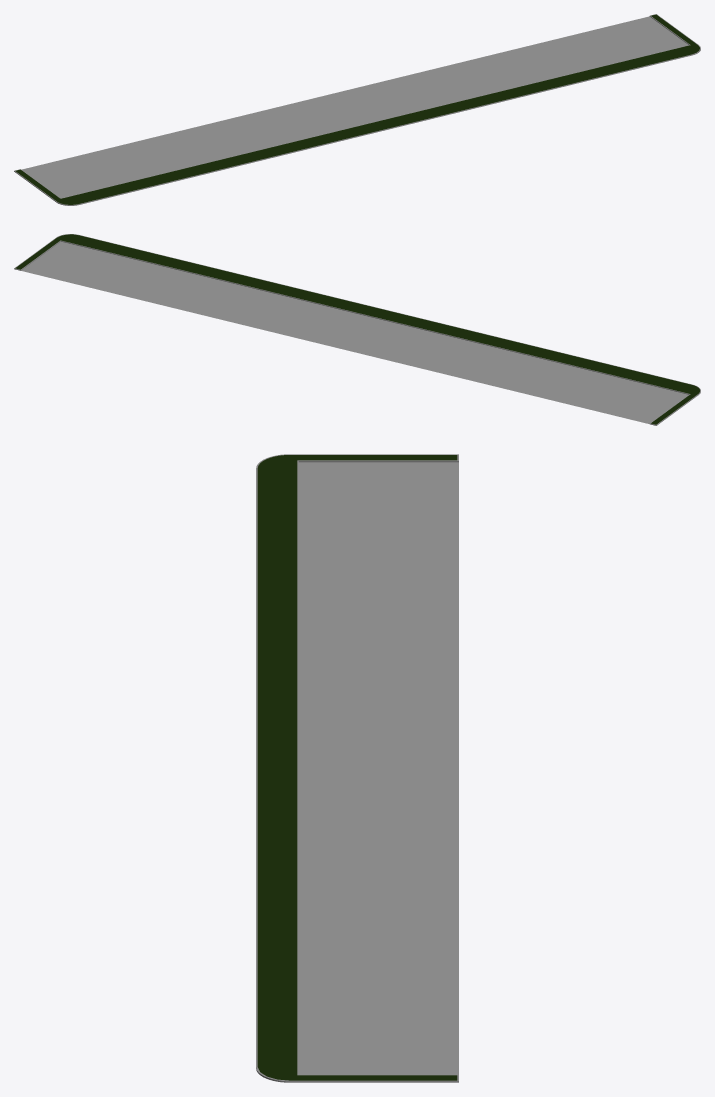
Rendered from RT ParkIs V05.FBX.
The picture shows the model from 3 angles, top to bottom: view 1: azimuth 30°, elevation 25°; view 2: azimuth 150°, elevation 25°; view 3: azimuth 270°, elevation 25°; orthographic projection. The views are drawn at different scales.
Visible parts, largest first — view 1: RT ParkIs Lines V05 S, RT ParkIs V05 LOW, RT ParkIs V05 HI; view 2: RT ParkIs Lines V05 S, RT ParkIs V05 HI, RT ParkIs V05 LOW; view 3: RT ParkIs Lines V05 S, RT ParkIs V05 LOW, RT ParkIs V05 HI.
Part boxes in pixels (x1=…): RT ParkIs Lines V05 S: x1=22, y1=16, x2=688, y2=198; RT ParkIs V05 LOW: x1=329, y1=14, x2=700, y2=139; RT ParkIs V05 HI: x1=14, y1=16, x2=700, y2=205; RT ParkIs Lines V05 S: x1=21, y1=241, x2=688, y2=423; RT ParkIs V05 HI: x1=14, y1=234, x2=700, y2=425; RT ParkIs V05 LOW: x1=14, y1=234, x2=689, y2=425; RT ParkIs Lines V05 S: x1=298, y1=462, x2=458, y2=1074; RT ParkIs V05 LOW: x1=256, y1=461, x2=458, y2=1082; RT ParkIs V05 HI: x1=256, y1=454, x2=458, y2=1082.
Size of the model in its own units: 139 by 0.15 by 19.
